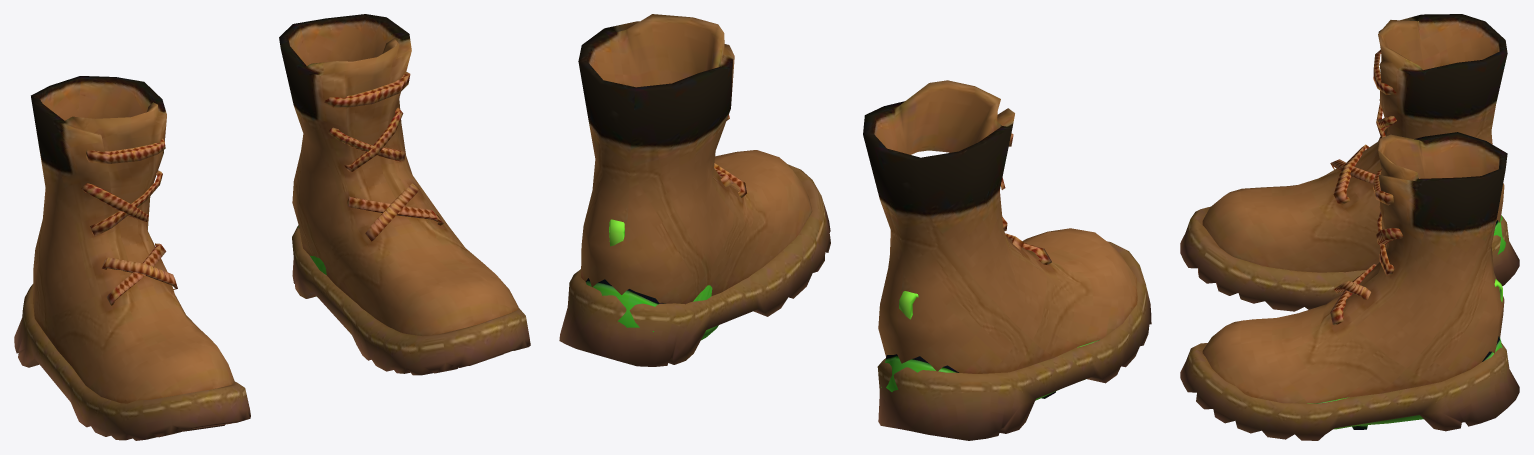
The model's file is Shoes2_Men.glb.
3 renders of one model, left to right at view 1: azimuth 30°, elevation 25°; view 2: azimuth 150°, elevation 25°; view 3: azimuth 270°, elevation 25°, orthographic. The views are drawn at different scales.
Parts seen in each view (by area): view 1: Wolf3D_Outfit_Footwear.001; view 2: Wolf3D_Outfit_Footwear.001, Wolf3D_Outfit_Footwear; view 3: Wolf3D_Outfit_Footwear.001, Wolf3D_Outfit_Footwear.
Boxes of the visible parts, <box> form: Wolf3D_Outfit_Footwear.001: <box>14,14,530,440</box>; Wolf3D_Outfit_Footwear.001: <box>559,14,1151,440</box>; Wolf3D_Outfit_Footwear: <box>585,219,1099,400</box>; Wolf3D_Outfit_Footwear.001: <box>1180,14,1519,440</box>; Wolf3D_Outfit_Footwear: <box>1307,215,1505,429</box>.
Bounding box in the file's own units: 0.483 × 0.3007 × 0.3546.
2 materials, 2 textured.
